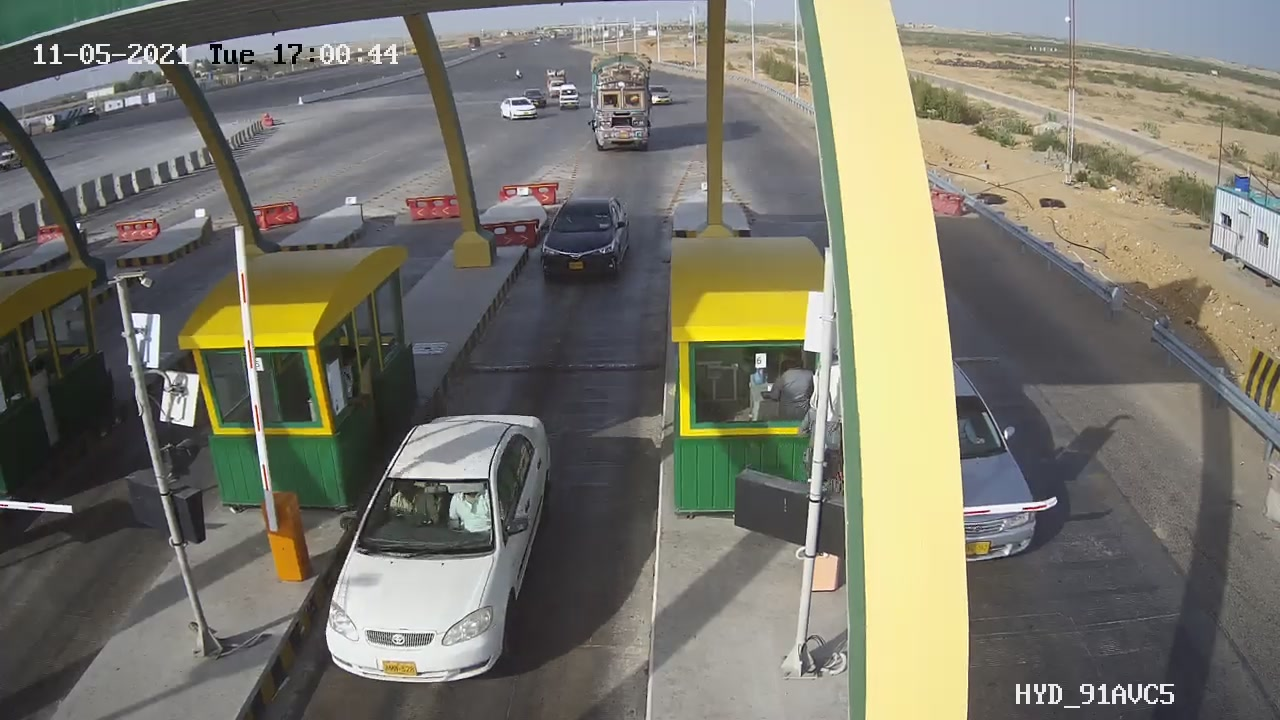F1: (531, 185, 644, 296)
